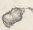microplastic: (1, 7, 26, 28)
